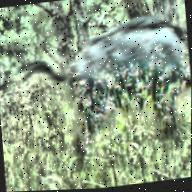boar: (44, 11, 192, 151)
